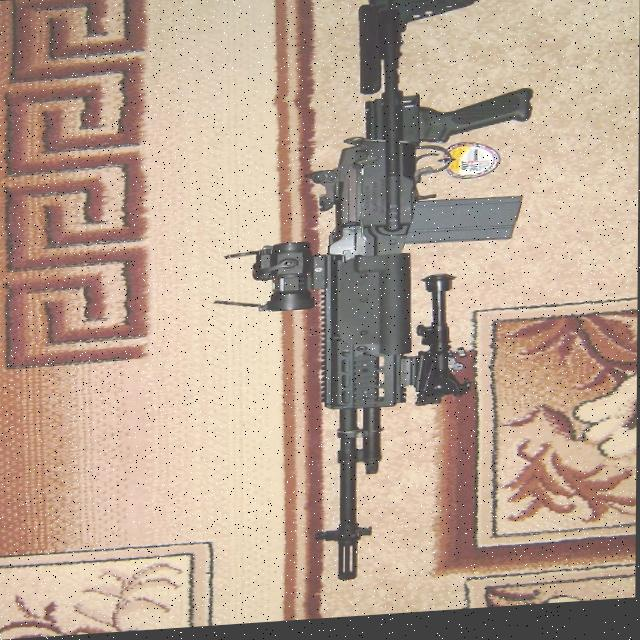firearm: (212, 0, 534, 591)
